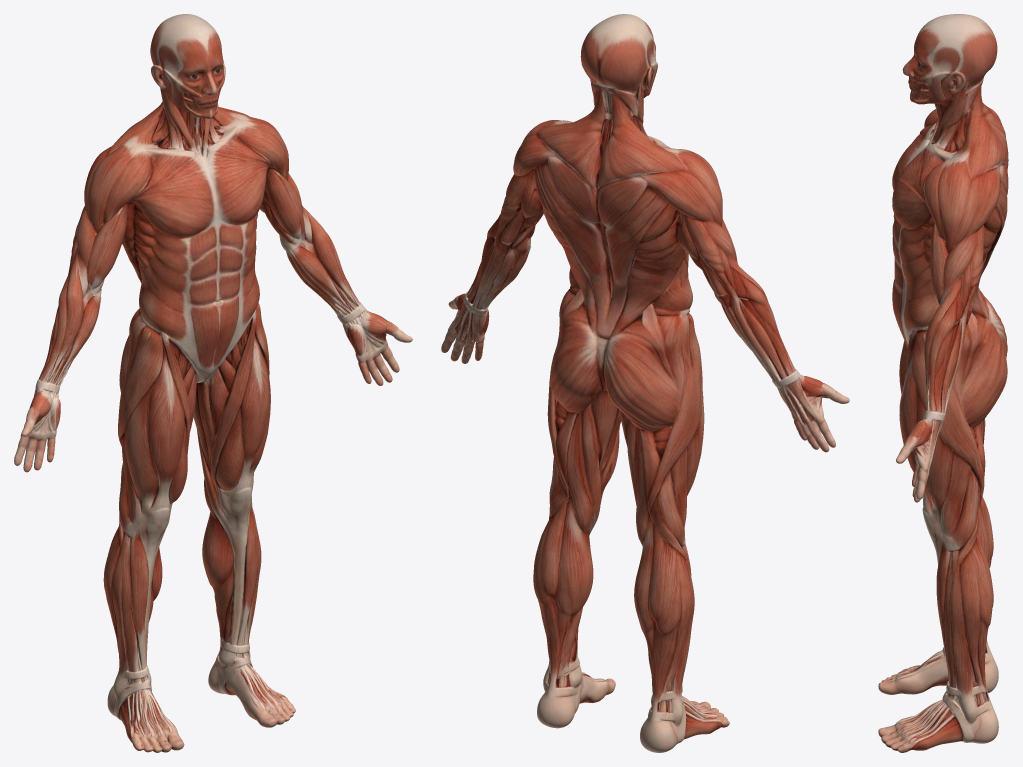
File: human-muscles.glb
3 views of the same model, side by side, from view 1: azimuth 30°, elevation 25°; view 2: azimuth 150°, elevation 25°; view 3: azimuth 270°, elevation 25° (orthographic). The views are drawn at different scales.
Visible parts, largest first — view 1: human-muscles; view 2: human-muscles; view 3: human-muscles.
Boxes of the visible parts, left/top/right/bottom form: human-muscles: left=14, top=14, right=412, bottom=752; human-muscles: left=441, top=14, right=849, bottom=752; human-muscles: left=878, top=14, right=1008, bottom=752.
Bounding box in the file's own units: 1.06 × 1.8 × 0.3029.
Materials: 1 (1 with a texture image).
